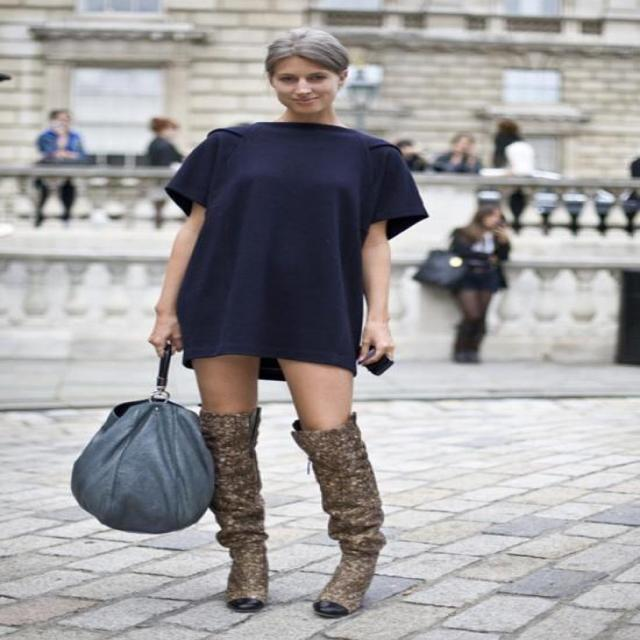dress: (162, 121, 430, 382)
